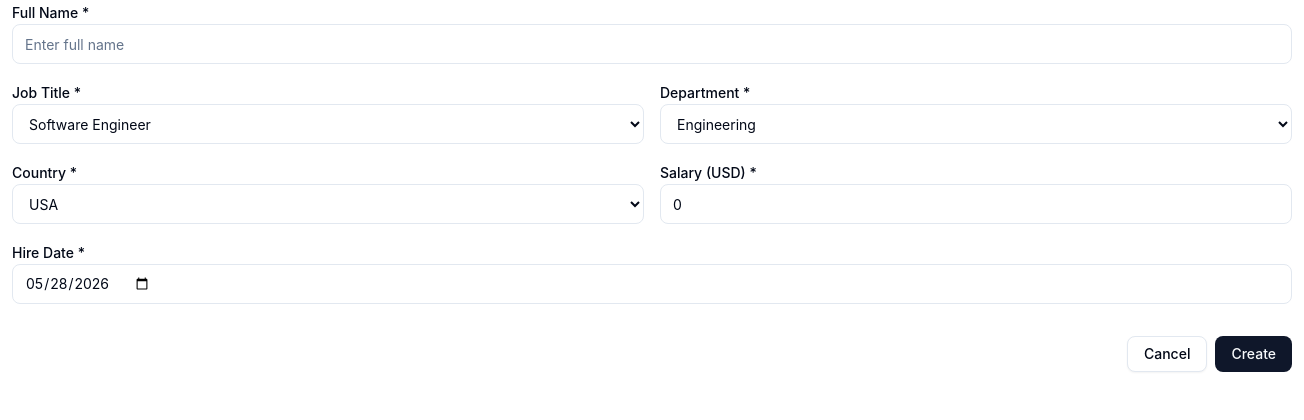
Test: EmployeeForm › should show validation error when salary is zero
The width and height of the screenshot is (1304, 420).
Type "Jane Smith" into the field labelled "Full Name *" at (652, 44), box [12, 24, 1292, 64]
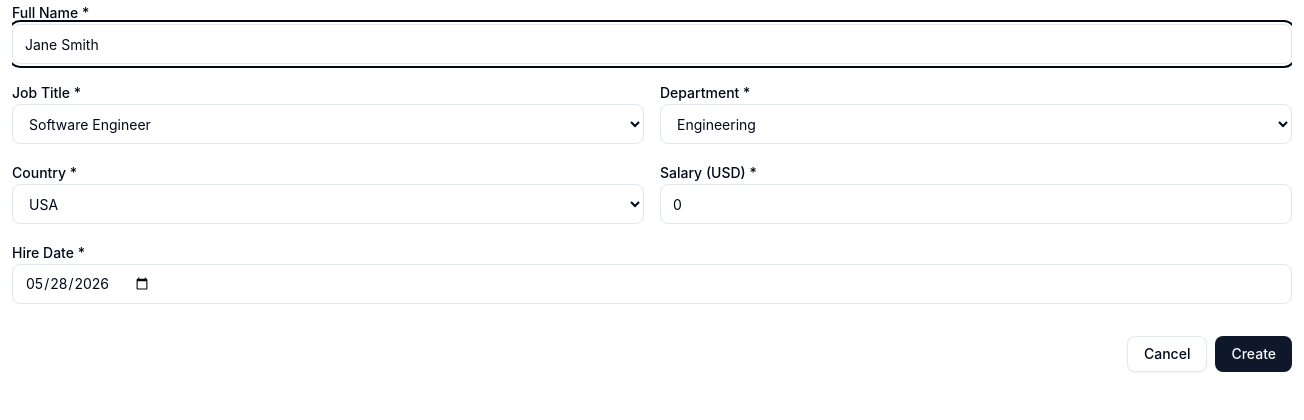
Click the button "Create" at (1254, 354), box [1215, 336, 1292, 372]
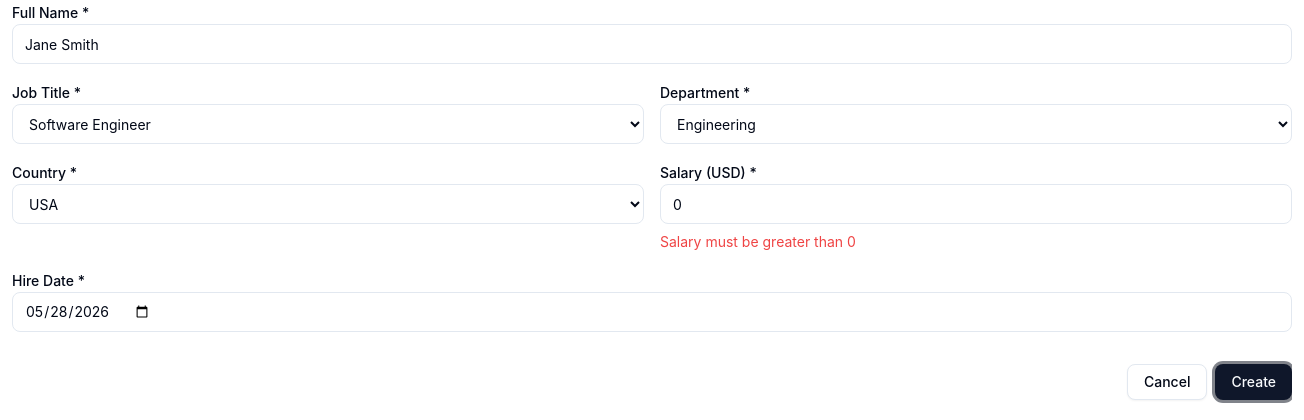
Expected: the text "Salary must be greater than 0" is shown, [660, 233, 856, 250]
